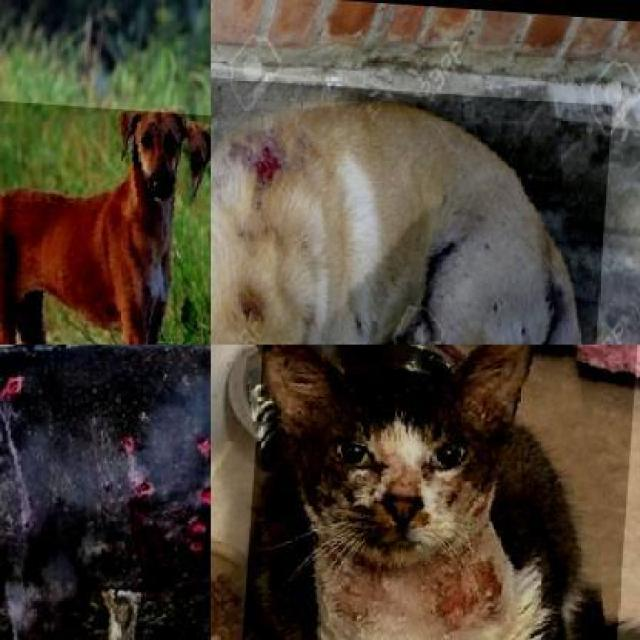cat: (226, 344, 640, 640)
cow: (0, 344, 211, 640)
dog: (211, 70, 612, 344), (0, 97, 211, 345)
injured: (250, 109, 358, 248), (398, 540, 520, 640), (134, 486, 195, 532), (27, 350, 68, 418), (142, 428, 170, 463)
